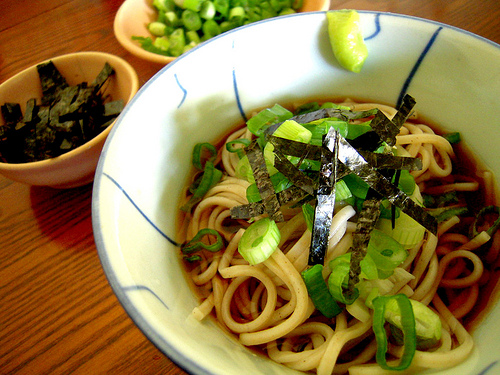Soba: (199, 102, 475, 375)
